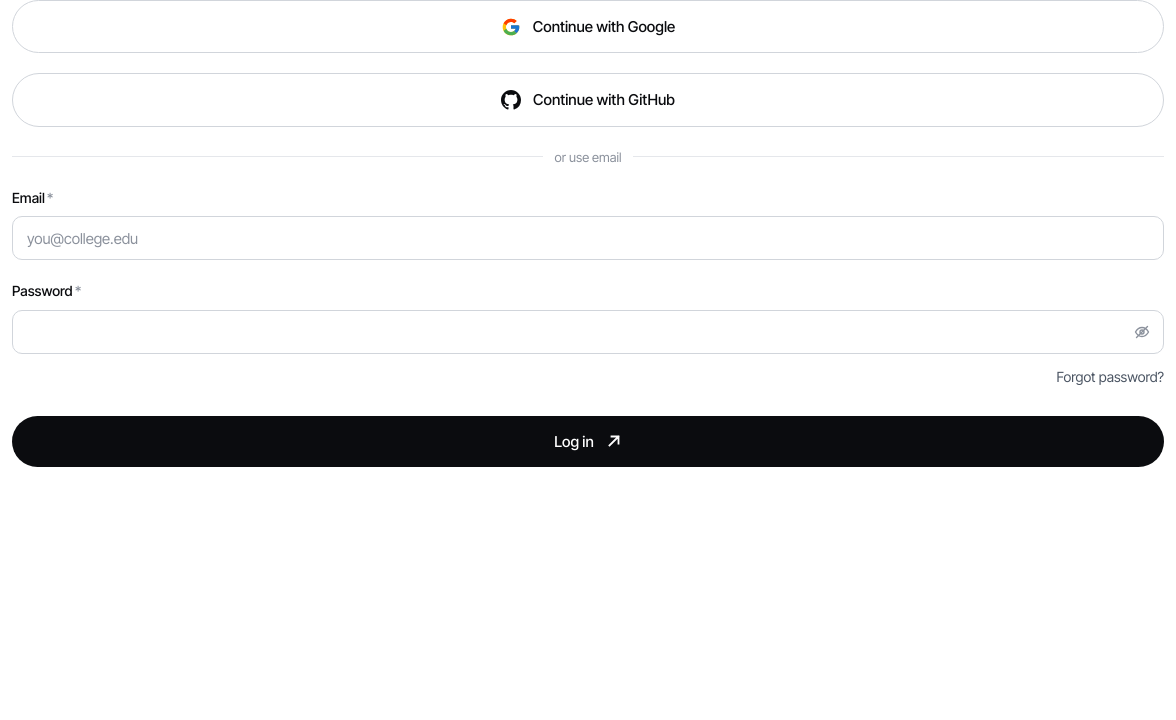
LoginForm › shows a friendly message when the API can't be reached
Step 1. Type "asha@college.edu" into the field labelled "Email*" → (588, 238), box [12, 216, 1164, 260]
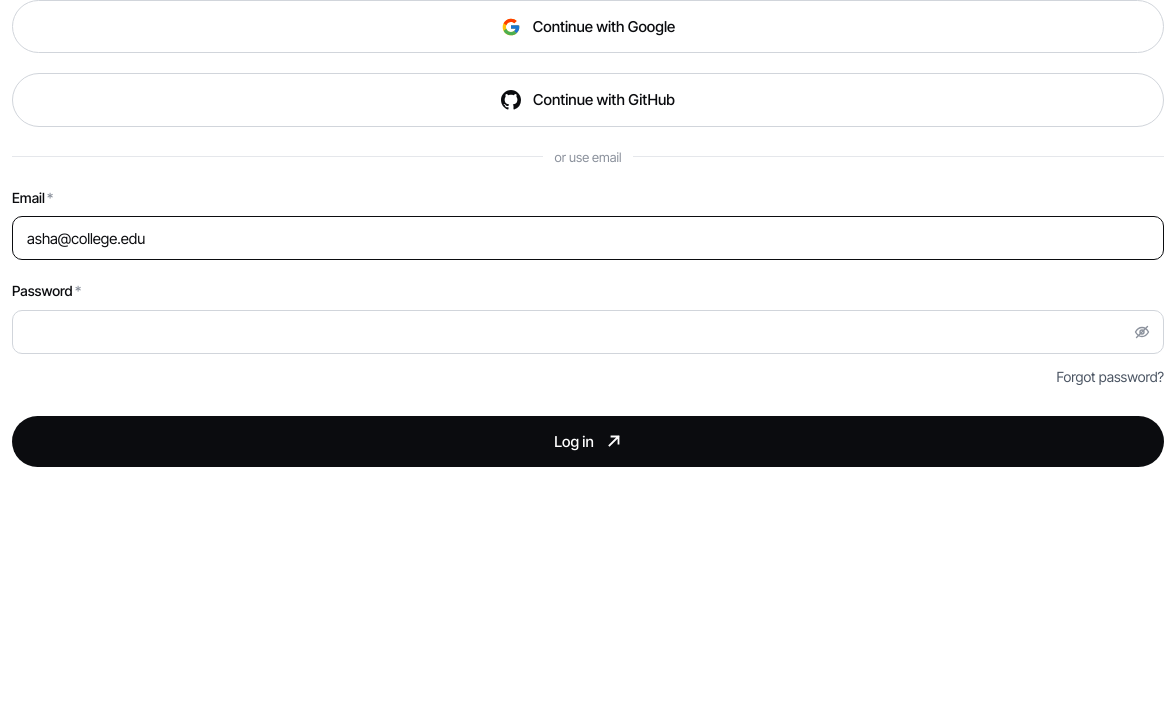
Step 2. Type "secret-pass" into the password field labelled "Password*" → (588, 332), box [12, 310, 1164, 354]
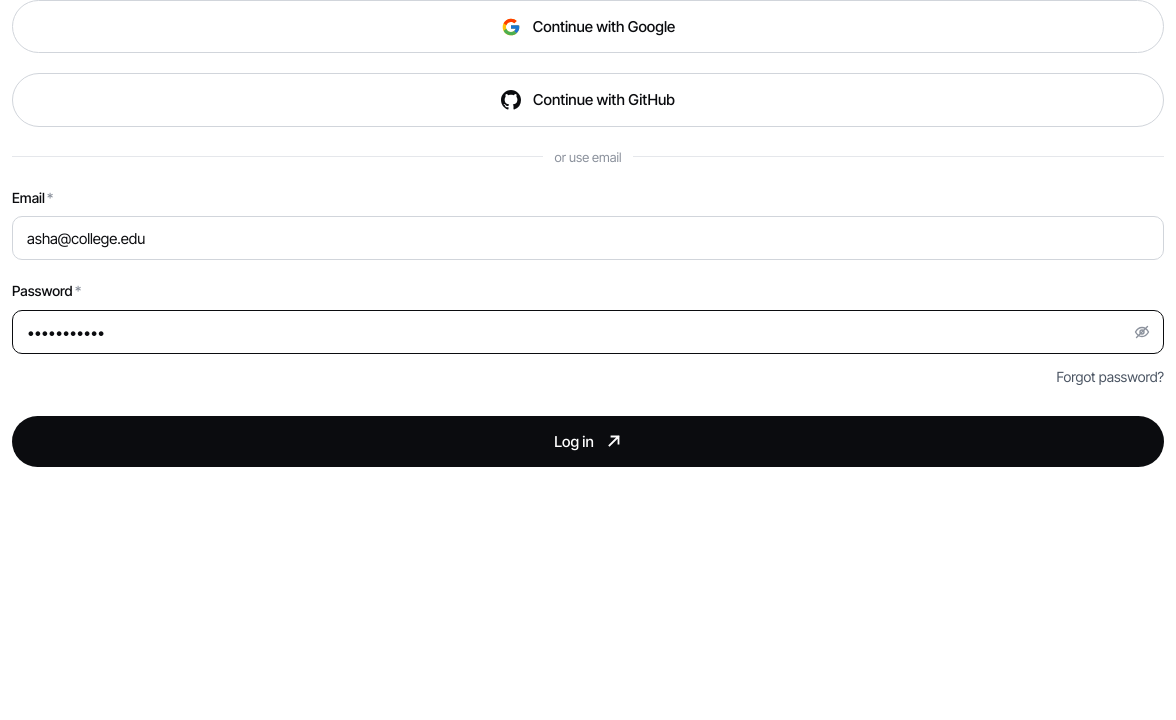
Step 3. Click the button "Log in Log in" → (588, 441), box [12, 416, 1164, 467]
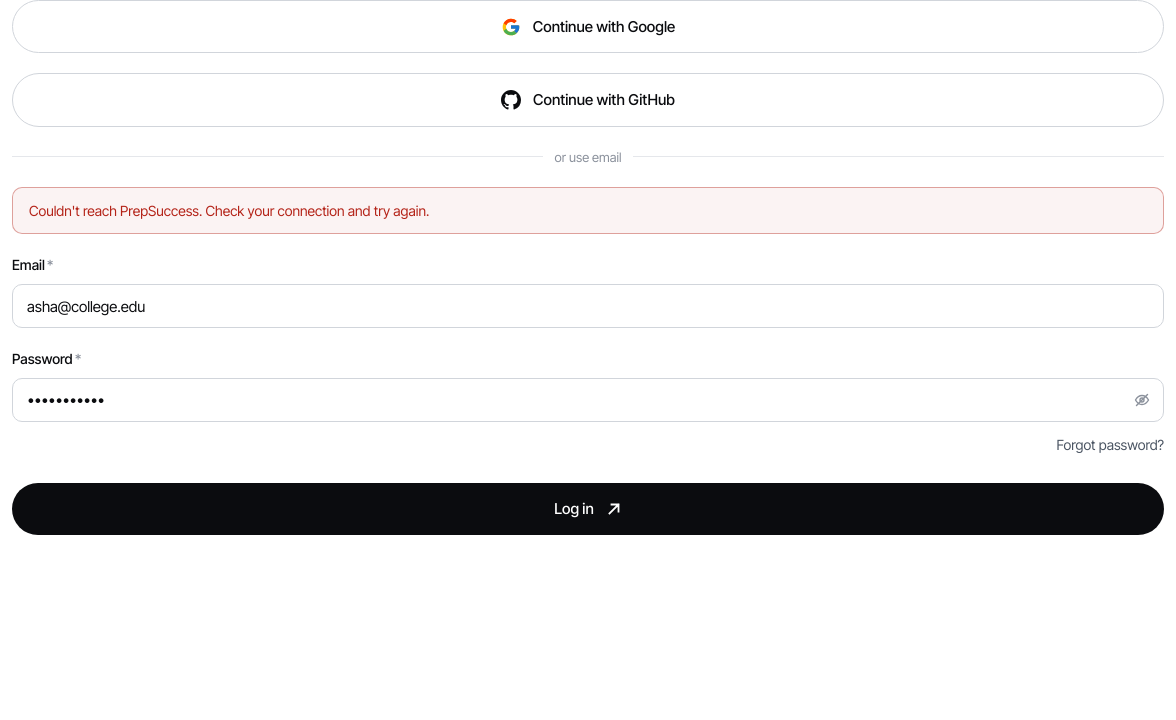
Expected: the message shows "Couldn't reach PrepSuccess", [29, 202, 429, 219]
